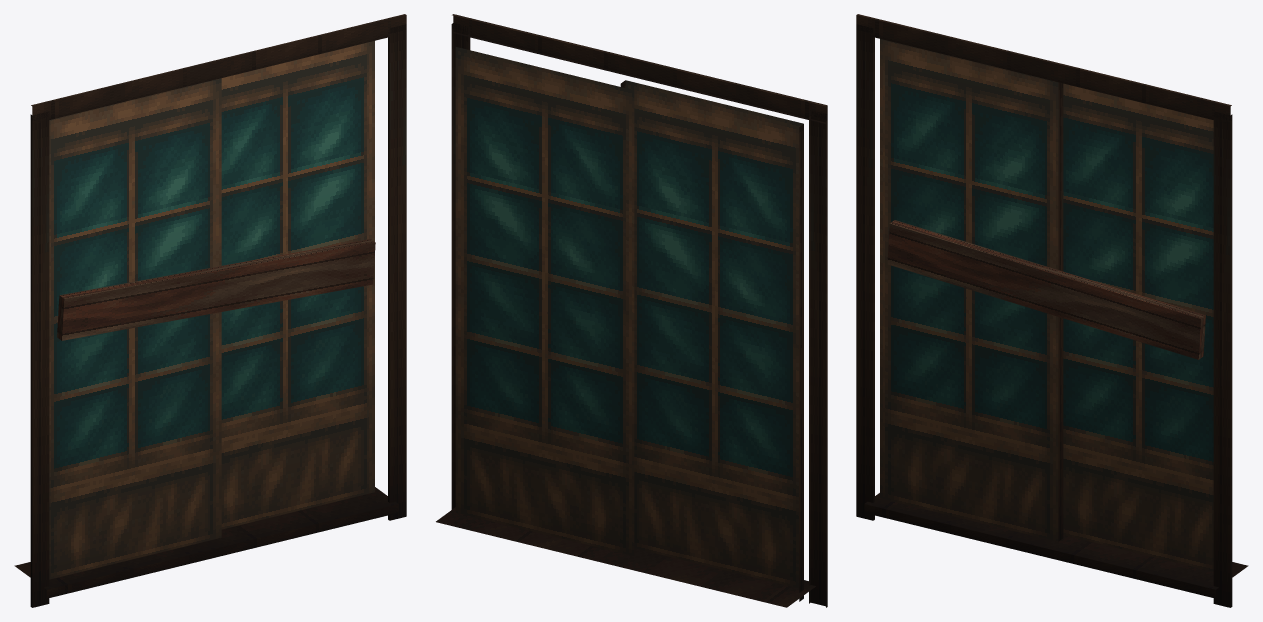
The model's file is prop_sash-12-16-5.glb.
3 views of the same model, side by side, from view 1: azimuth 30°, elevation 25°; view 2: azimuth 150°, elevation 25°; view 3: azimuth 330°, elevation 25° (orthographic).
Visible parts, largest first — view 1: prop_sash-12-16-5; view 2: prop_sash-12-16-5; view 3: prop_sash-12-16-5.
Boxes of the visible parts, x1=… form: prop_sash-12-16-5: x1=14, y1=14, x2=406, y2=607; prop_sash-12-16-5: x1=436, y1=14, x2=827, y2=607; prop_sash-12-16-5: x1=856, y1=14, x2=1248, y2=607.
Bounding box in the file's own units: 1.32 × 1.69 × 0.2.
3 materials, 3 textured.
